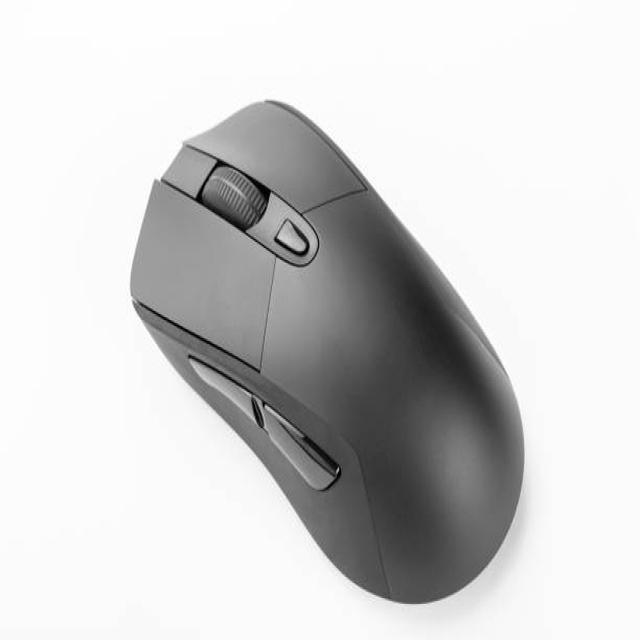mouse: (103, 72, 562, 604)
